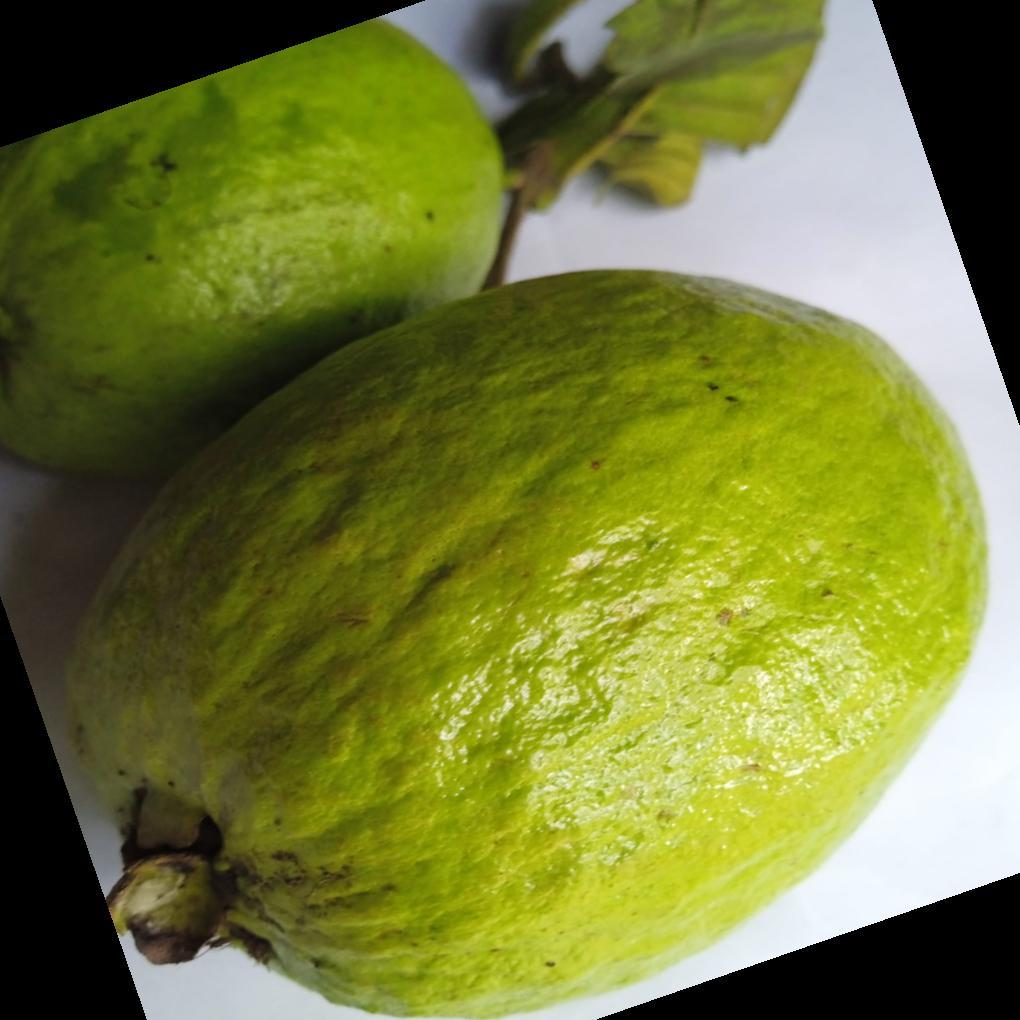FreshGuava: (0, 20, 992, 1020)
